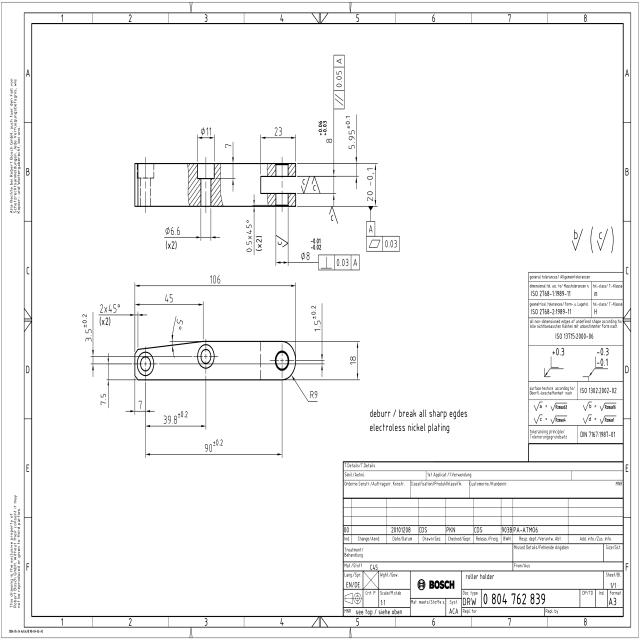dimension: (244, 217, 264, 254), (300, 236, 323, 261), (98, 303, 120, 327), (164, 225, 182, 252), (317, 118, 334, 146), (162, 409, 189, 425), (345, 110, 355, 153), (203, 436, 225, 454), (310, 303, 322, 334), (366, 166, 376, 202), (82, 311, 92, 345), (197, 124, 214, 136), (173, 316, 185, 332), (272, 124, 284, 137), (208, 272, 221, 284), (163, 292, 175, 305), (98, 392, 107, 407), (309, 388, 320, 399), (224, 140, 234, 149), (349, 356, 357, 366), (136, 398, 142, 411)
